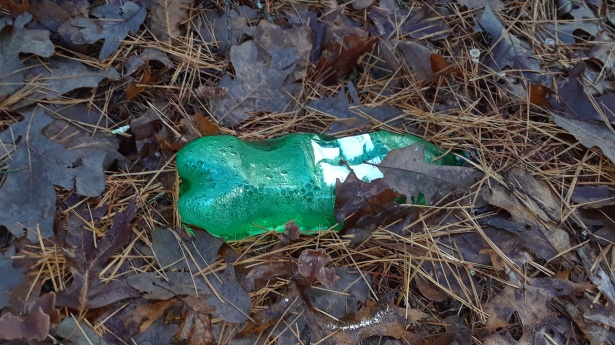plastic: (179, 140, 451, 231)
